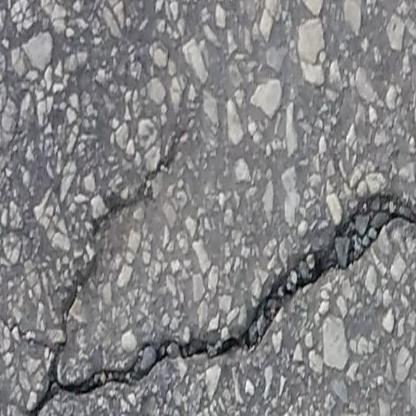Cracks: (18, 143, 416, 416), (0, 325, 40, 354)
